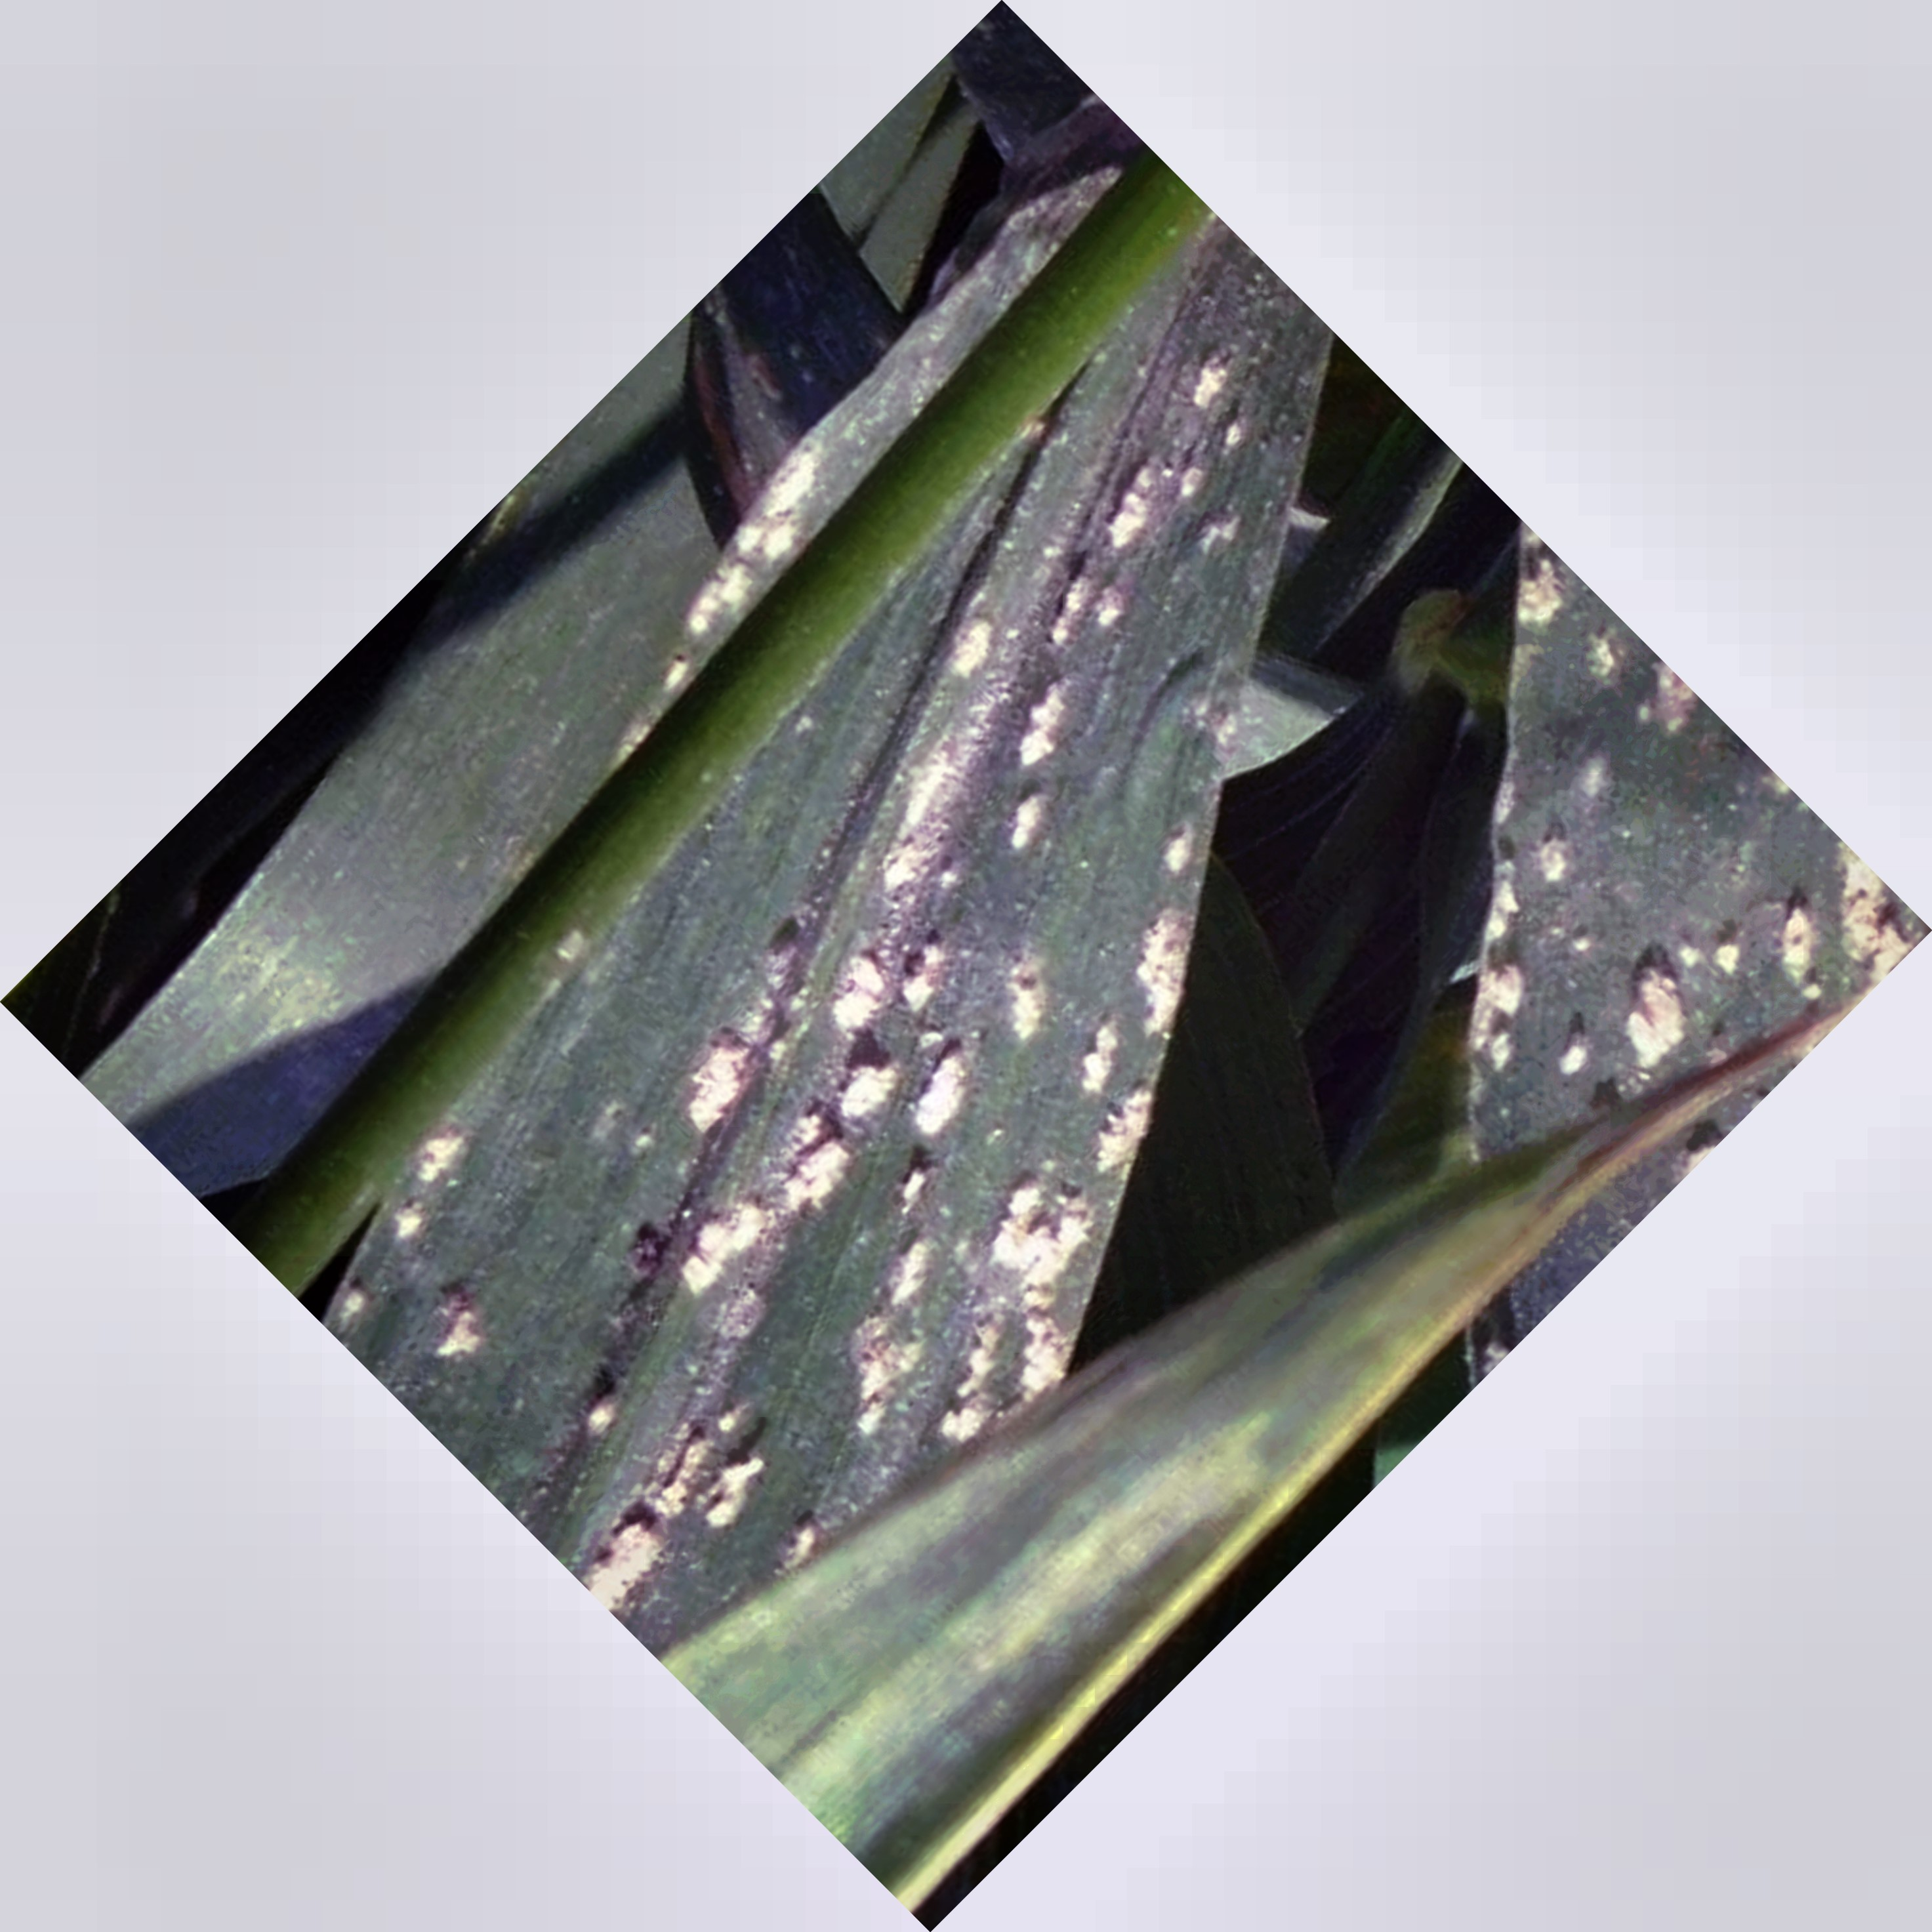Powdery Mildew: (692, 331, 1332, 1530)
